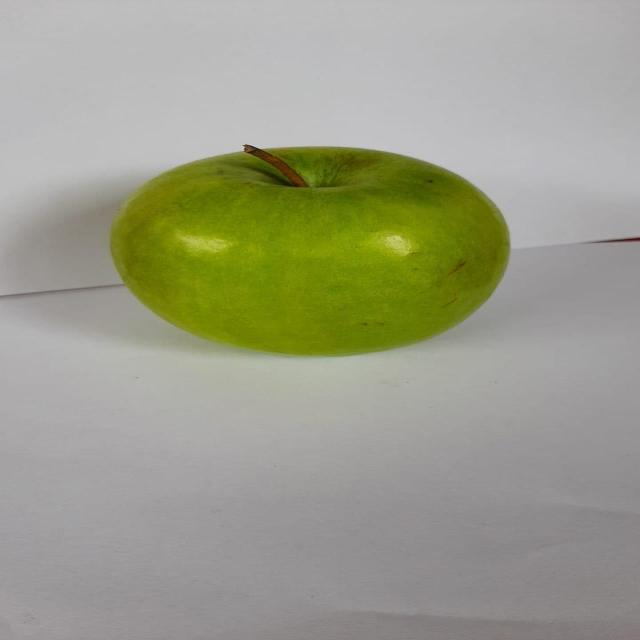Rotten Apple: (100, 138, 518, 368)
